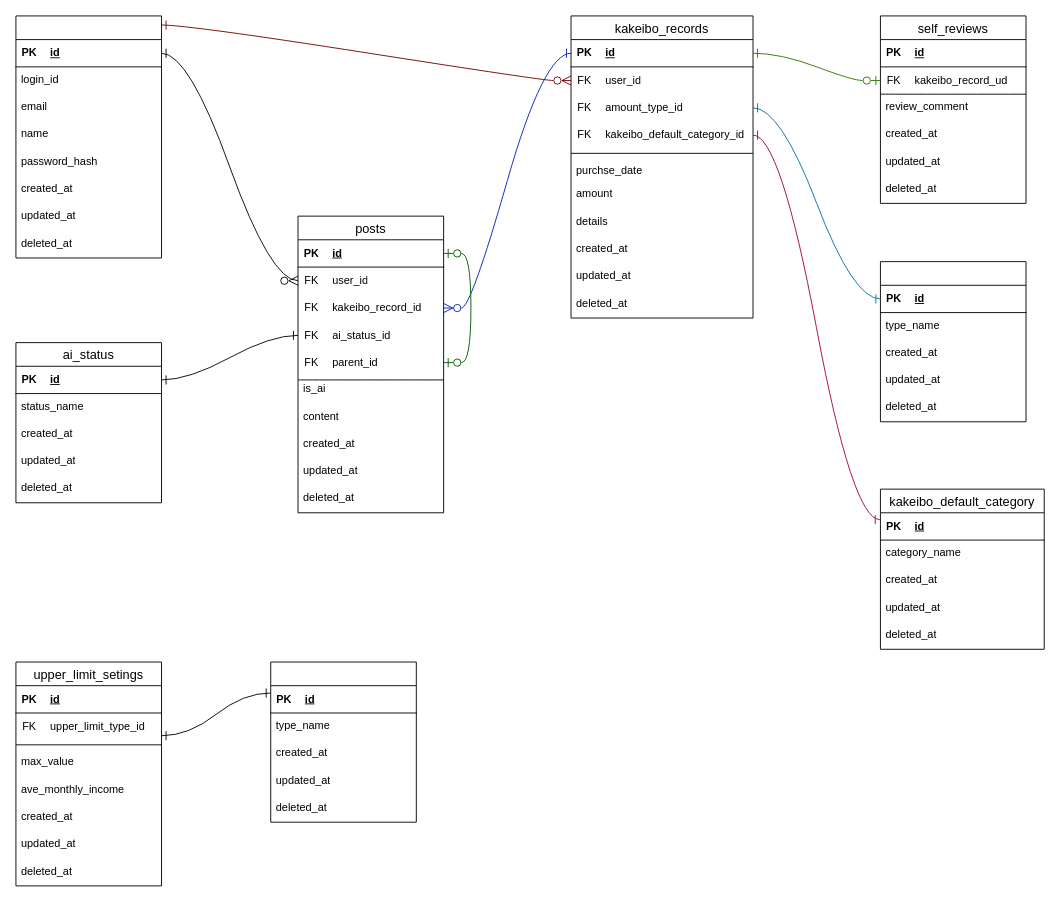
The diagram is 1060 pixels wide and 905 high, and some of its shapes have lost their labels. Each missing label, with the box of its shape:
amount_types: (880, 261, 1026, 422)
upper_limit_types: (270, 661, 416, 822)
users: (15, 15, 162, 258)
